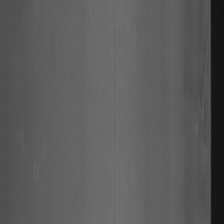silk_spot: (191, 27, 208, 140)
